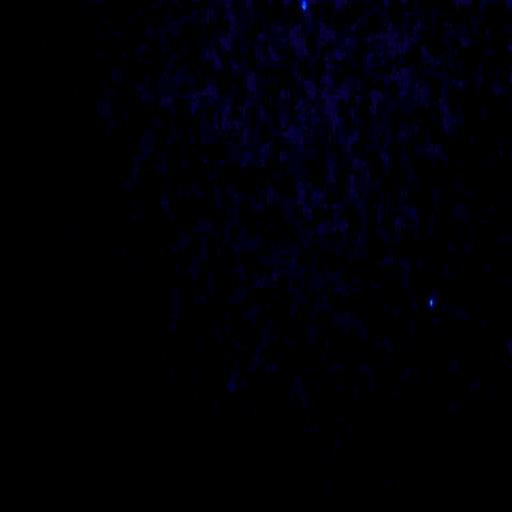object-detection-project: (302, 0, 307, 10)
